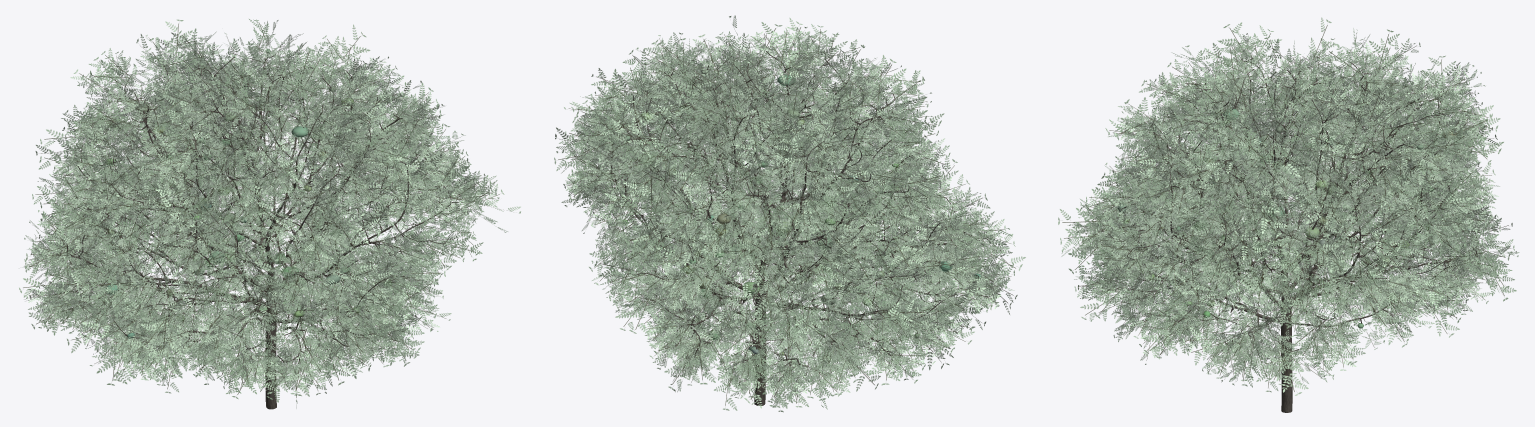
Rendered from tree_63_broadleaf.glb.
3 views of the same model, side by side, from view 1: azimuth 30°, elevation 25°; view 2: azimuth 150°, elevation 25°; view 3: azimuth 270°, elevation 25° (orthographic). The views are drawn at different scales.
Visible parts, largest first — view 1: tree_63_broadleaf.leaves, tree_63_broadleaf.trunk_branches, tree_63_broadleaf.foliage_volume; view 2: tree_63_broadleaf.leaves, tree_63_broadleaf.trunk_branches, tree_63_broadleaf.foliage_volume; view 3: tree_63_broadleaf.leaves, tree_63_broadleaf.trunk_branches, tree_63_broadleaf.foliage_volume.
Boxes of the visible parts, x1,y1,x2,y2 form: tree_63_broadleaf.leaves: [19, 19, 520, 408]; tree_63_broadleaf.trunk_branches: [53, 52, 462, 409]; tree_63_broadleaf.foliage_volume: [67, 48, 407, 338]; tree_63_broadleaf.leaves: [554, 15, 1025, 412]; tree_63_broadleaf.trunk_branches: [593, 51, 983, 405]; tree_63_broadleaf.foliage_volume: [601, 69, 980, 362]; tree_63_broadleaf.leaves: [1058, 17, 1519, 395]; tree_63_broadleaf.trunk_branches: [1098, 58, 1478, 412]; tree_63_broadleaf.foliage_volume: [1117, 89, 1471, 328].
Bounding box in the file's own units: 15.99 × 13.05 × 14.93.
Materials: 3 (2 with a texture image).
